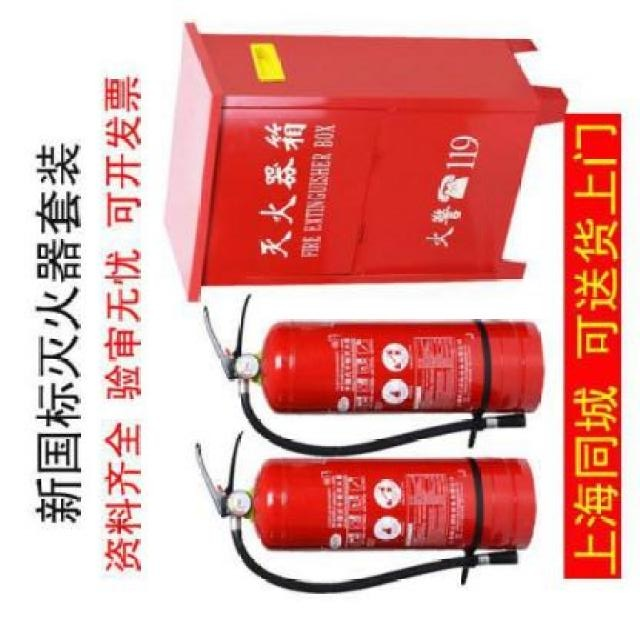fire extinguisher: (193, 429, 538, 594), (202, 295, 544, 459)
